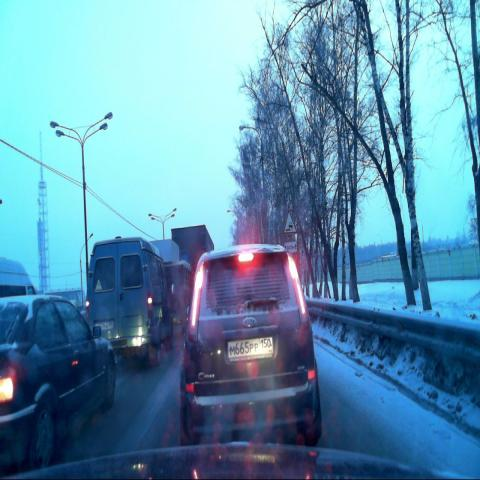1_19: (282, 212, 296, 236)
